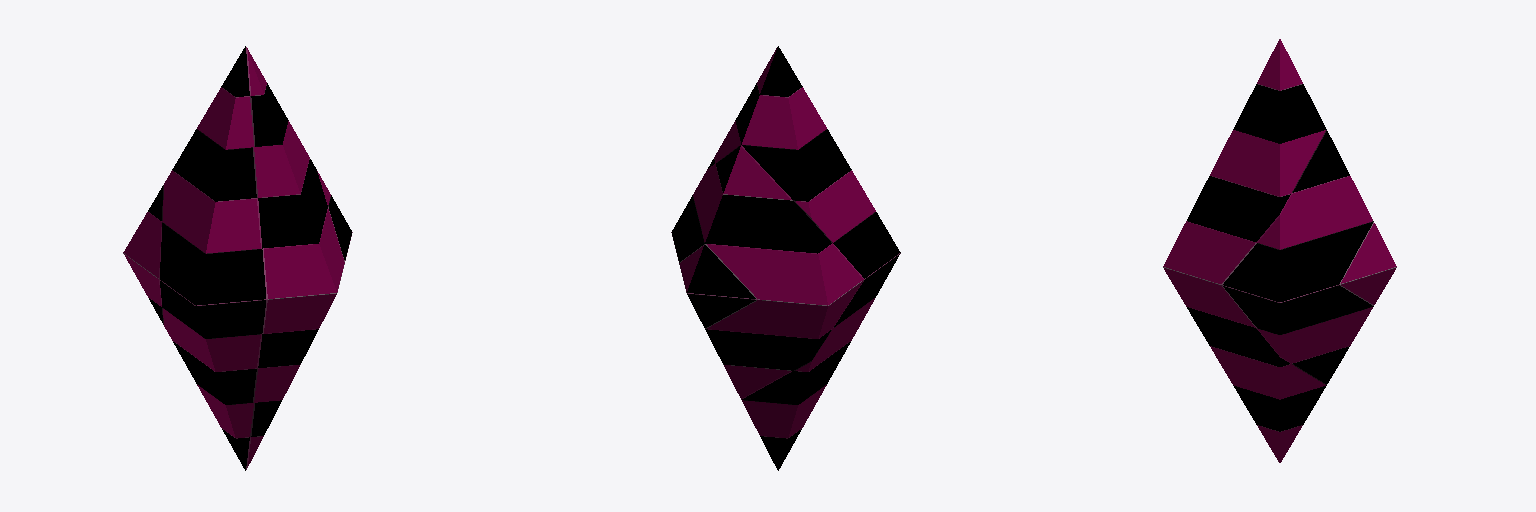
3 renders of one model, left to right at view 1: azimuth 30°, elevation 25°; view 2: azimuth 150°, elevation 25°; view 3: azimuth 270°, elevation 25°, orthographic.
Parts seen in each view (by area): view 1: polySurface6; view 2: polySurface6; view 3: polySurface6.
Part boxes in pixels (left/top/right/bottom): polySurface6: left=123, top=46, right=352, bottom=470; polySurface6: left=671, top=46, right=900, bottom=470; polySurface6: left=1163, top=39, right=1396, bottom=462.
Size of the model in its own units: 1.48 by 3.11 by 1.55.
Materials: 1 (1 with a texture image).